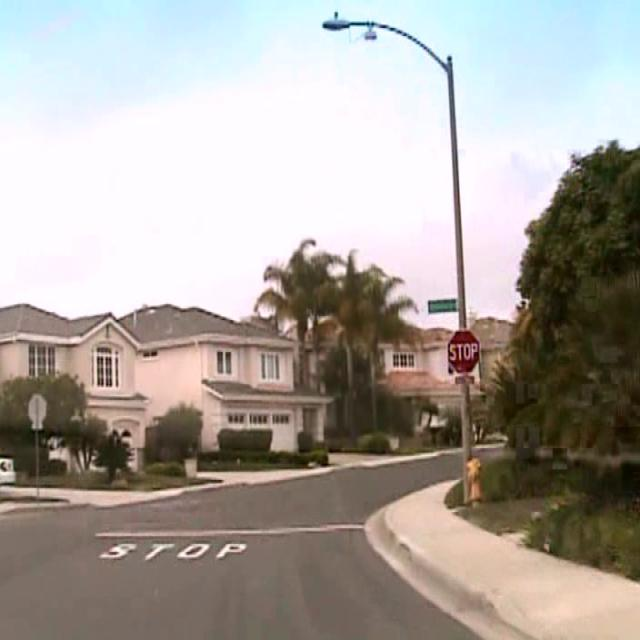stop: (447, 328, 480, 373)
